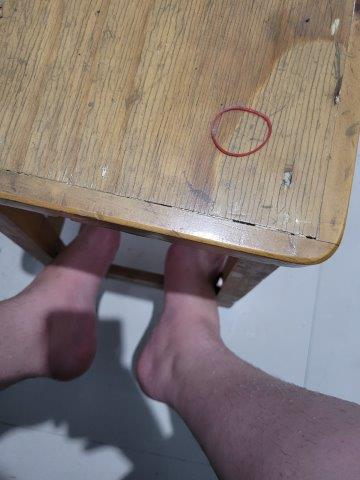karet: (210, 106, 273, 158)
